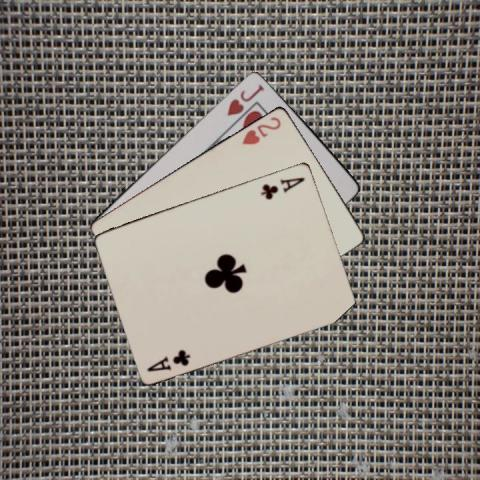2h: (239, 113, 283, 146)
Ac: (258, 174, 306, 201), (144, 346, 192, 372)
Jh: (223, 81, 266, 117)
